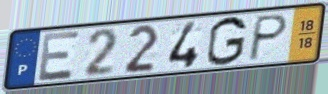2: (124, 23, 162, 76), (85, 27, 120, 79)
4: (166, 19, 201, 70)
E: (37, 29, 83, 84)
G: (205, 15, 249, 68)
P: (246, 13, 291, 63)
